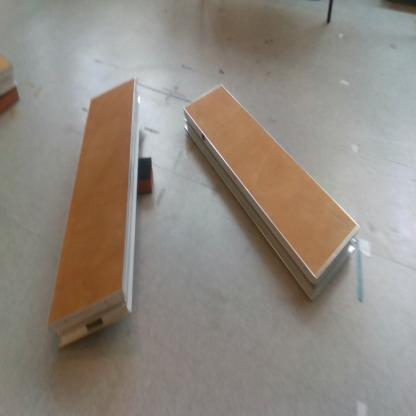Stairs: (184, 84, 362, 308), (46, 80, 143, 354), (1, 56, 18, 101)
